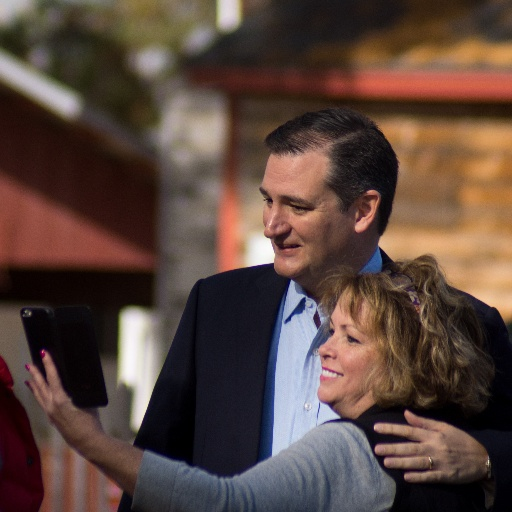hand: (364, 406, 498, 509), (23, 346, 105, 450)
